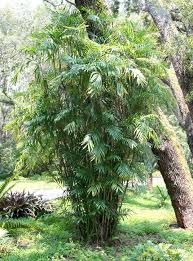bamboo: (26, 11, 156, 240)
